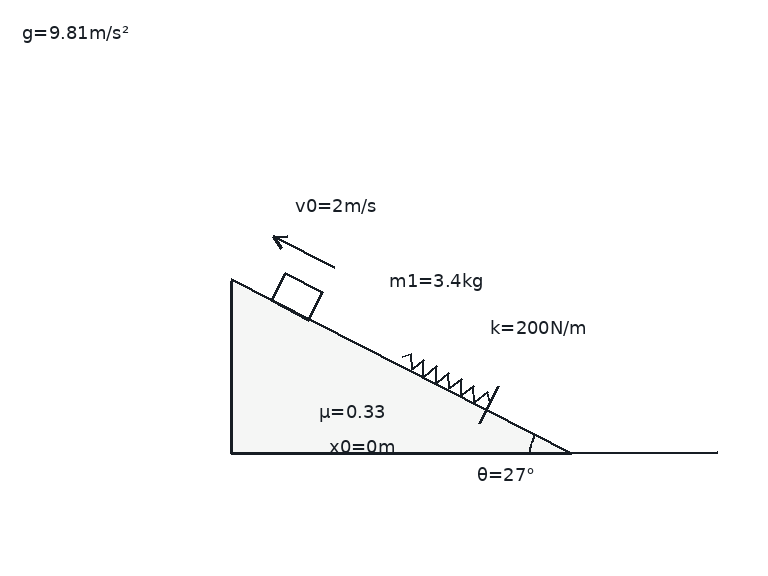block: (269, 271, 324, 322)
ramp: (229, 278, 572, 455)
spring: (399, 352, 491, 404)
